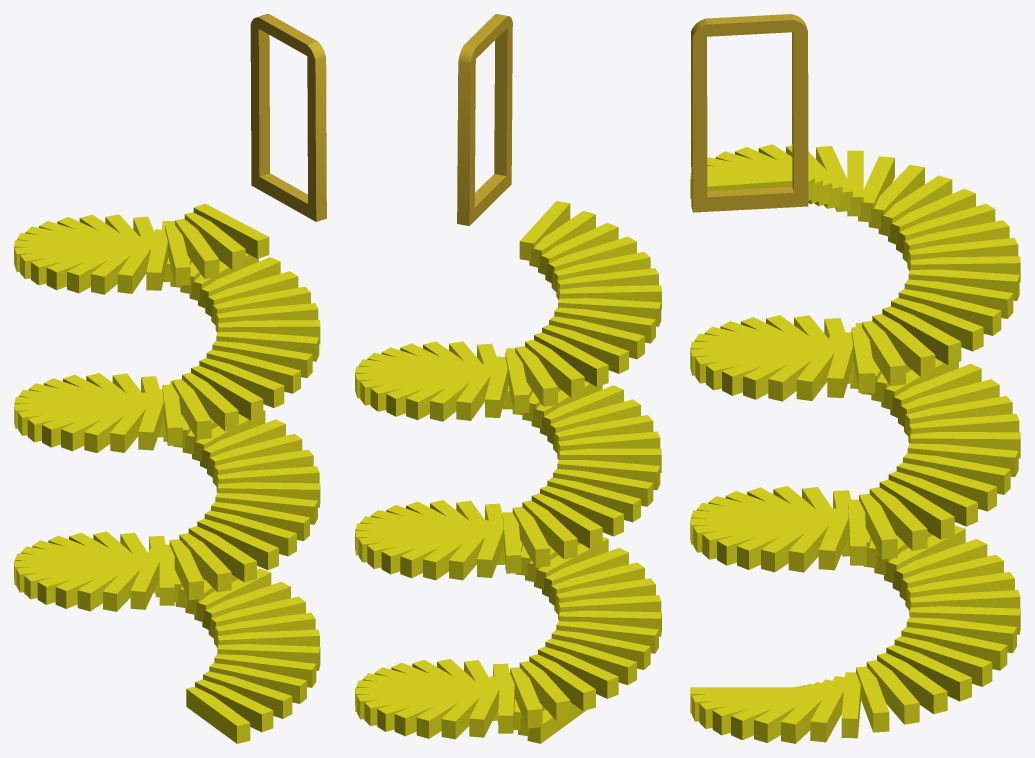
The model's file is stair.glb.
The picture shows the model from 3 angles, left to right: view 1: azimuth 30°, elevation 25°; view 2: azimuth 150°, elevation 25°; view 3: azimuth 270°, elevation 25°; orthographic projection. The views are drawn at different scales.
Parts seen in each view (by area): view 1: Cube, Cube.001; view 2: Cube, Cube.001; view 3: Cube, Cube.001.
Boxes of the visible parts, x1=… form: Cube: x1=14, y1=203, x2=320, y2=743; Cube.001: x1=250, y1=14, x2=326, y2=221; Cube: x1=355, y1=201, x2=661, y2=743; Cube.001: x1=457, y1=14, x2=512, y2=225; Cube: x1=690, y1=144, x2=1020, y2=743; Cube.001: x1=691, y1=14, x2=808, y2=212.
Size of the model in its own units: 44.91 by 109 by 44.91.
